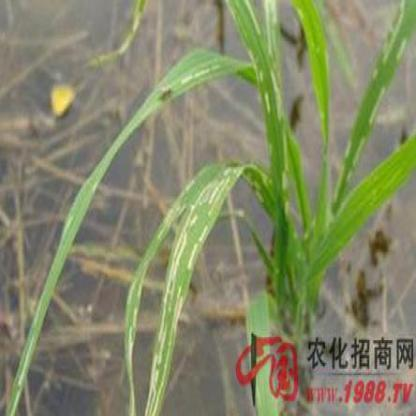rice-bug: (159, 85, 176, 103)
